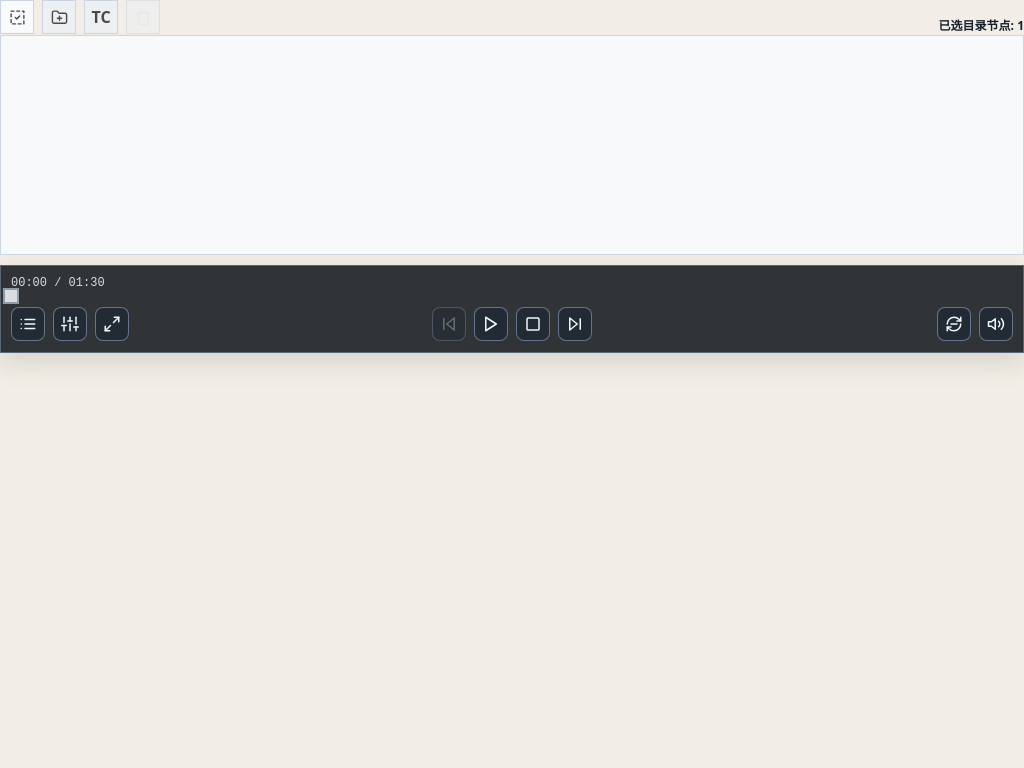
Test: MusicMainSection › 转码能力缺少封装器时应展示 muxer 缺失提示
Click the button "TC" at [101, 17], box [84,0,118,34]
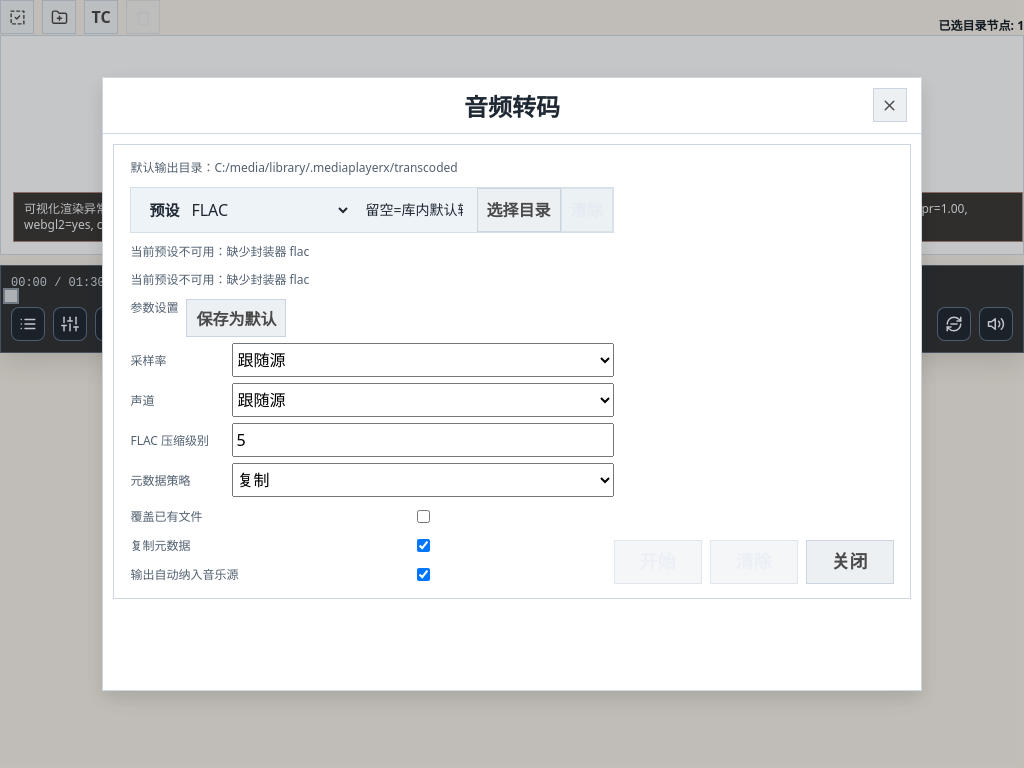
Check: the button "开始" is disabled, box [614,540,702,584]
Check: the 1st text "当前预设不可用：缺少封装器 flac" is shown, box [130,243,309,260]
